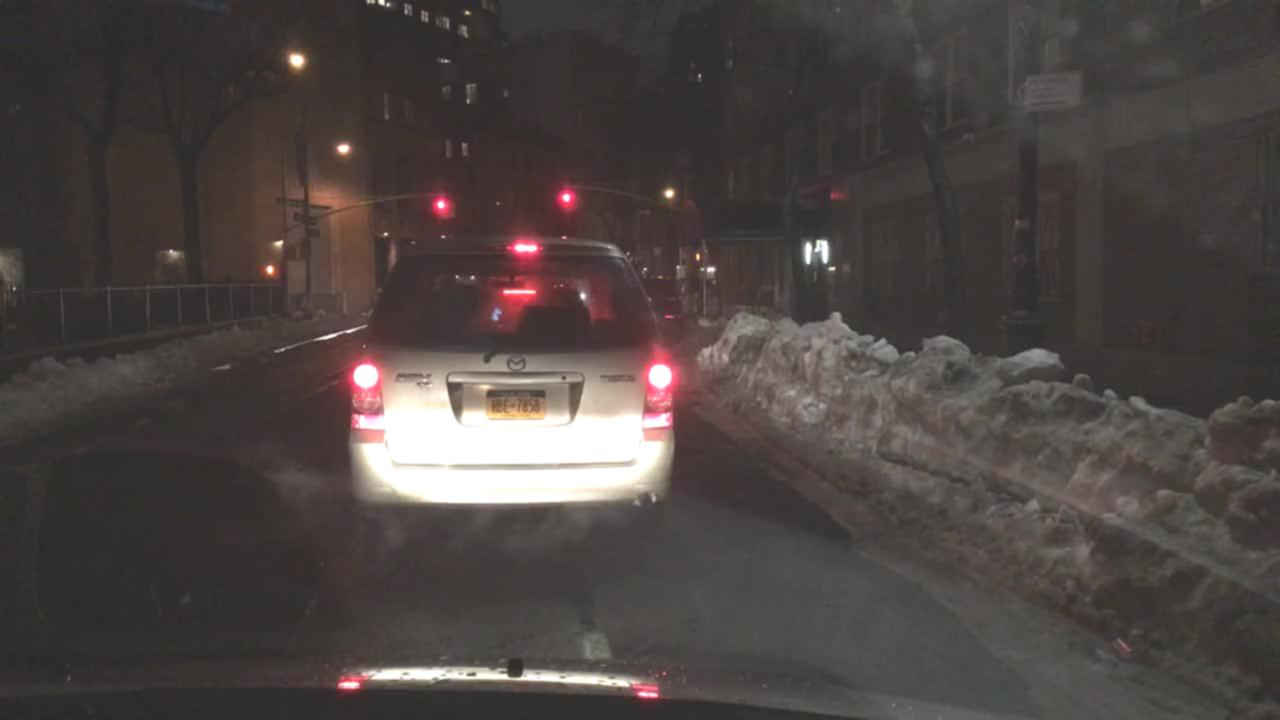Mazda: (502, 352, 530, 374)
